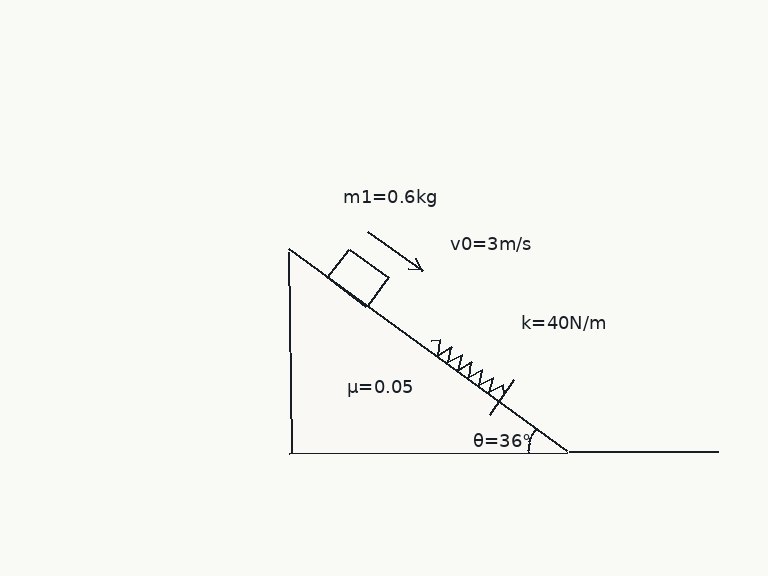block: (326, 246, 390, 308)
ramp: (288, 248, 570, 454)
spring: (429, 338, 506, 396)
